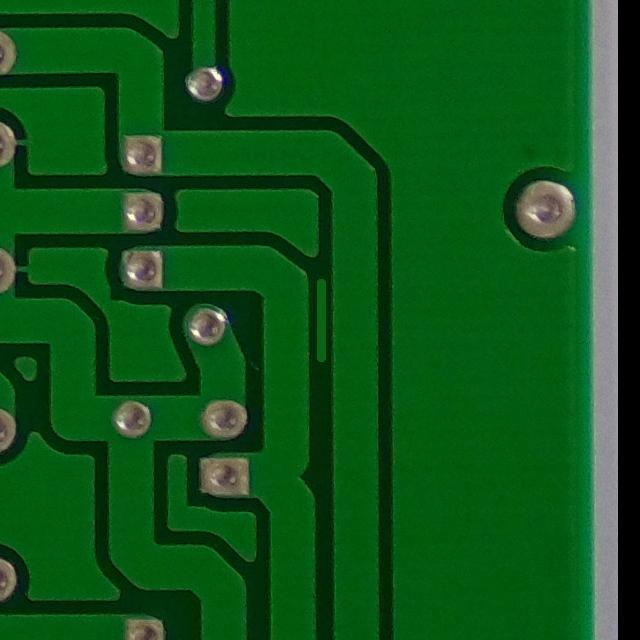spurious_copper: (298, 259, 343, 381)
